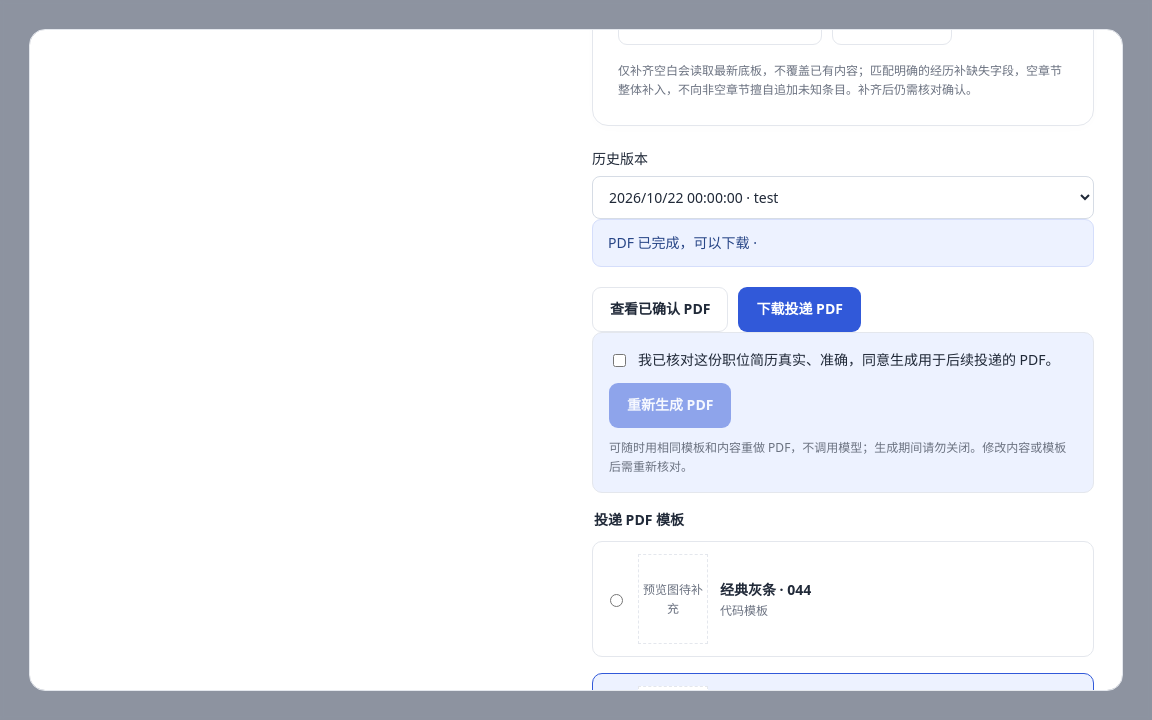
Test: job editor and PDF templates › does not claim a PDF is downloadable when the save succeeds but readiness verification fails
(page scrolled)
Click the checkbox labelled "我已核对这份职位简历真实、准确，同意生成用于后续投递的 PDF。" at (620, 360), box [613,354,626,367]
(page scrolled)
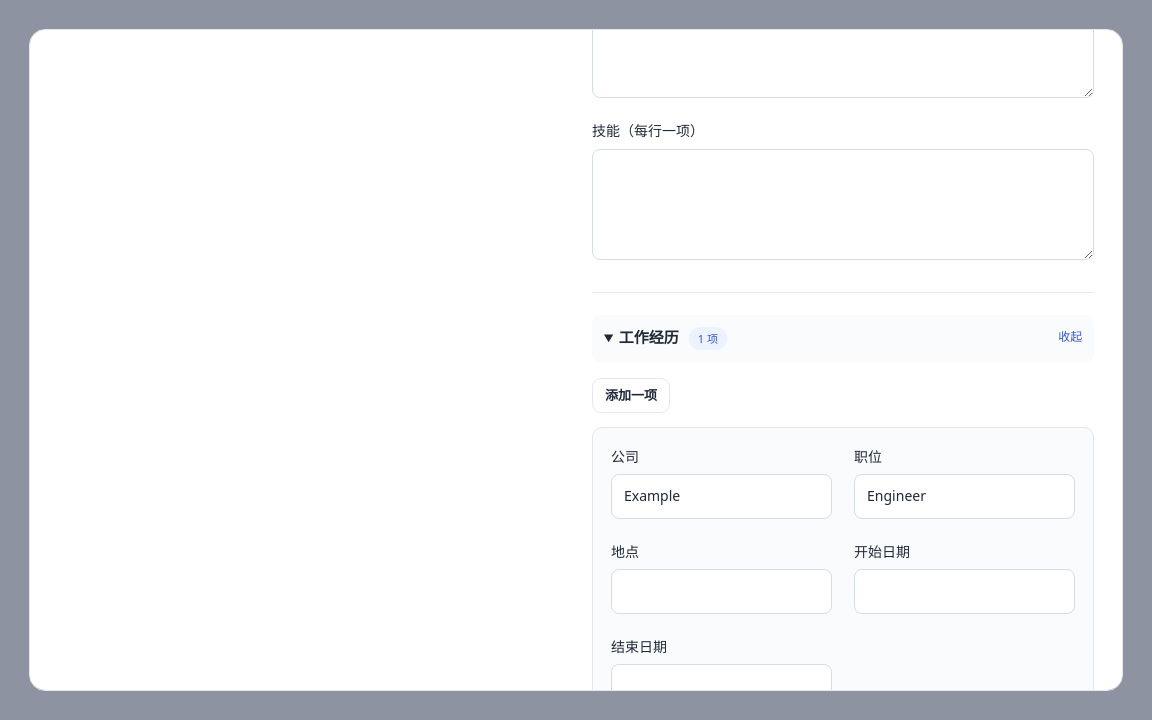
Submit the form
(page scrolled)
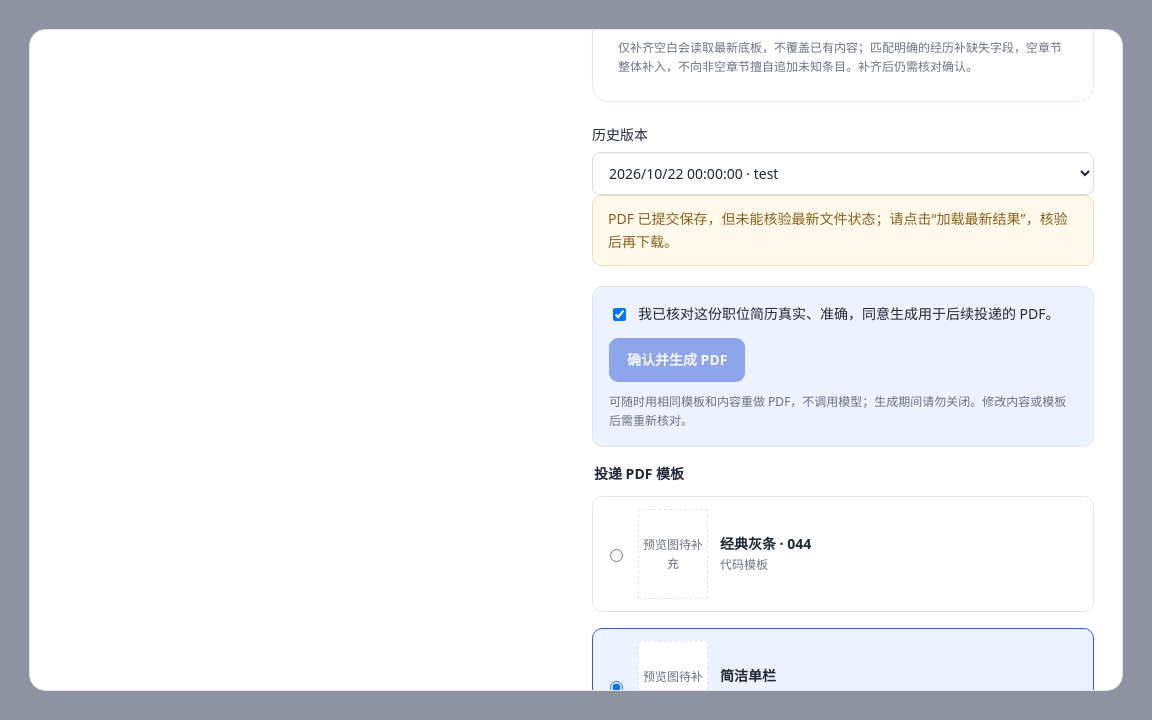
Expected: the message "PDF 已提交保存，但未能核验最新文件状态；请点击“加载最新结果”，核验后再下载。" is shown, [592,195,1094,266]
Expected: the submit button is disabled, [609,338,746,382]
